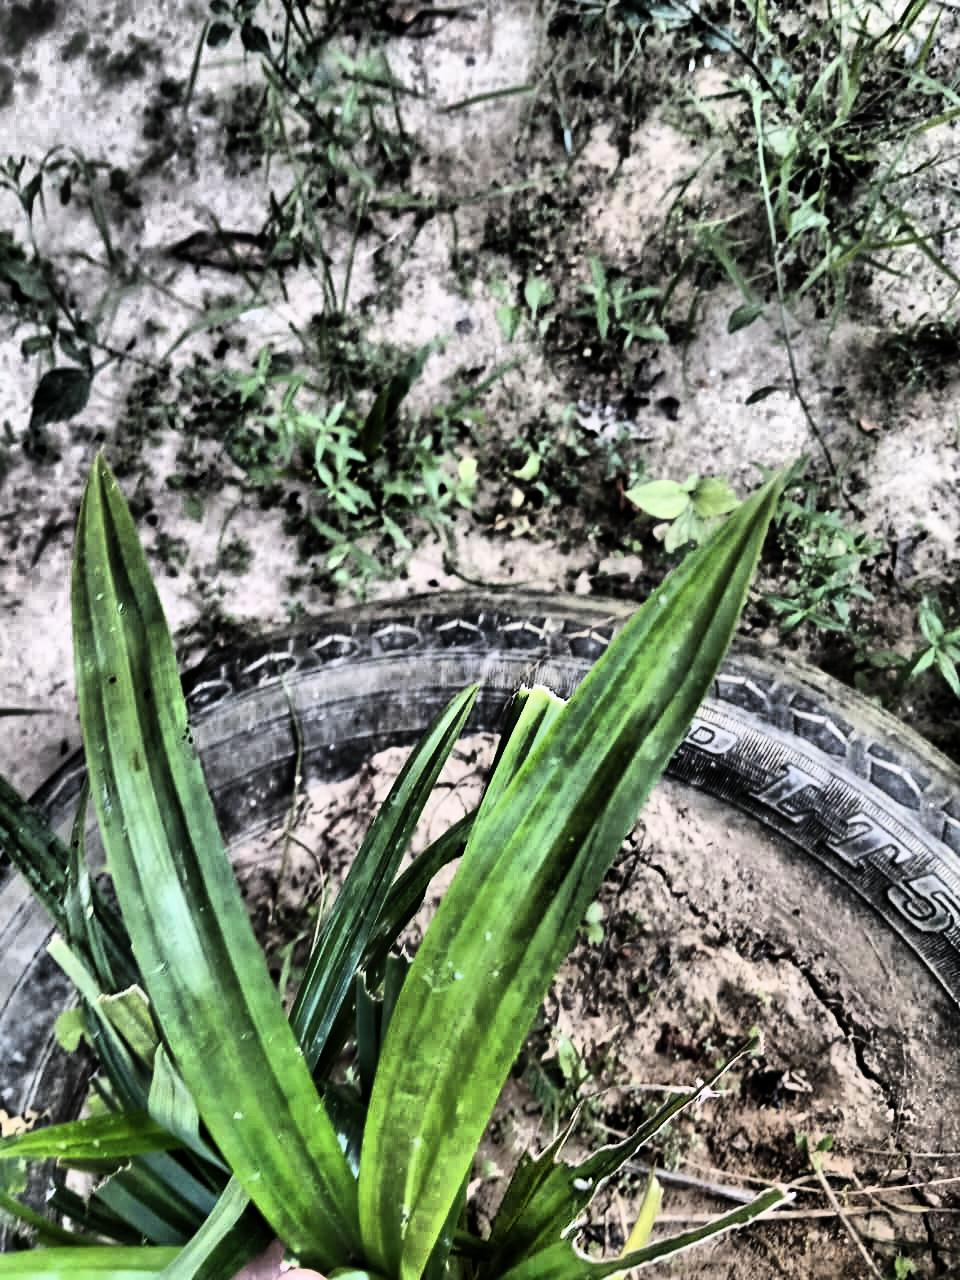daun pandan: (0, 457, 789, 1279)
